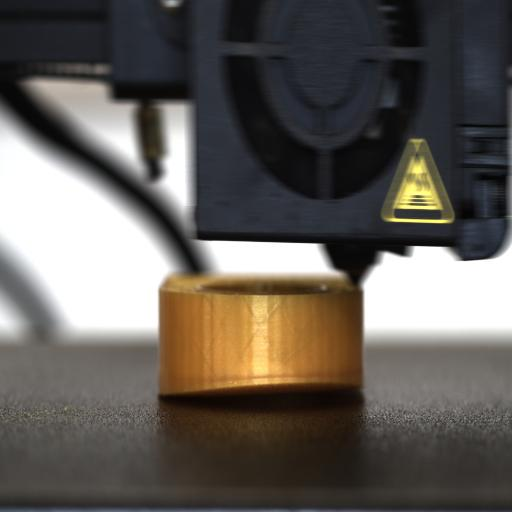warp: (166, 359, 360, 403)
